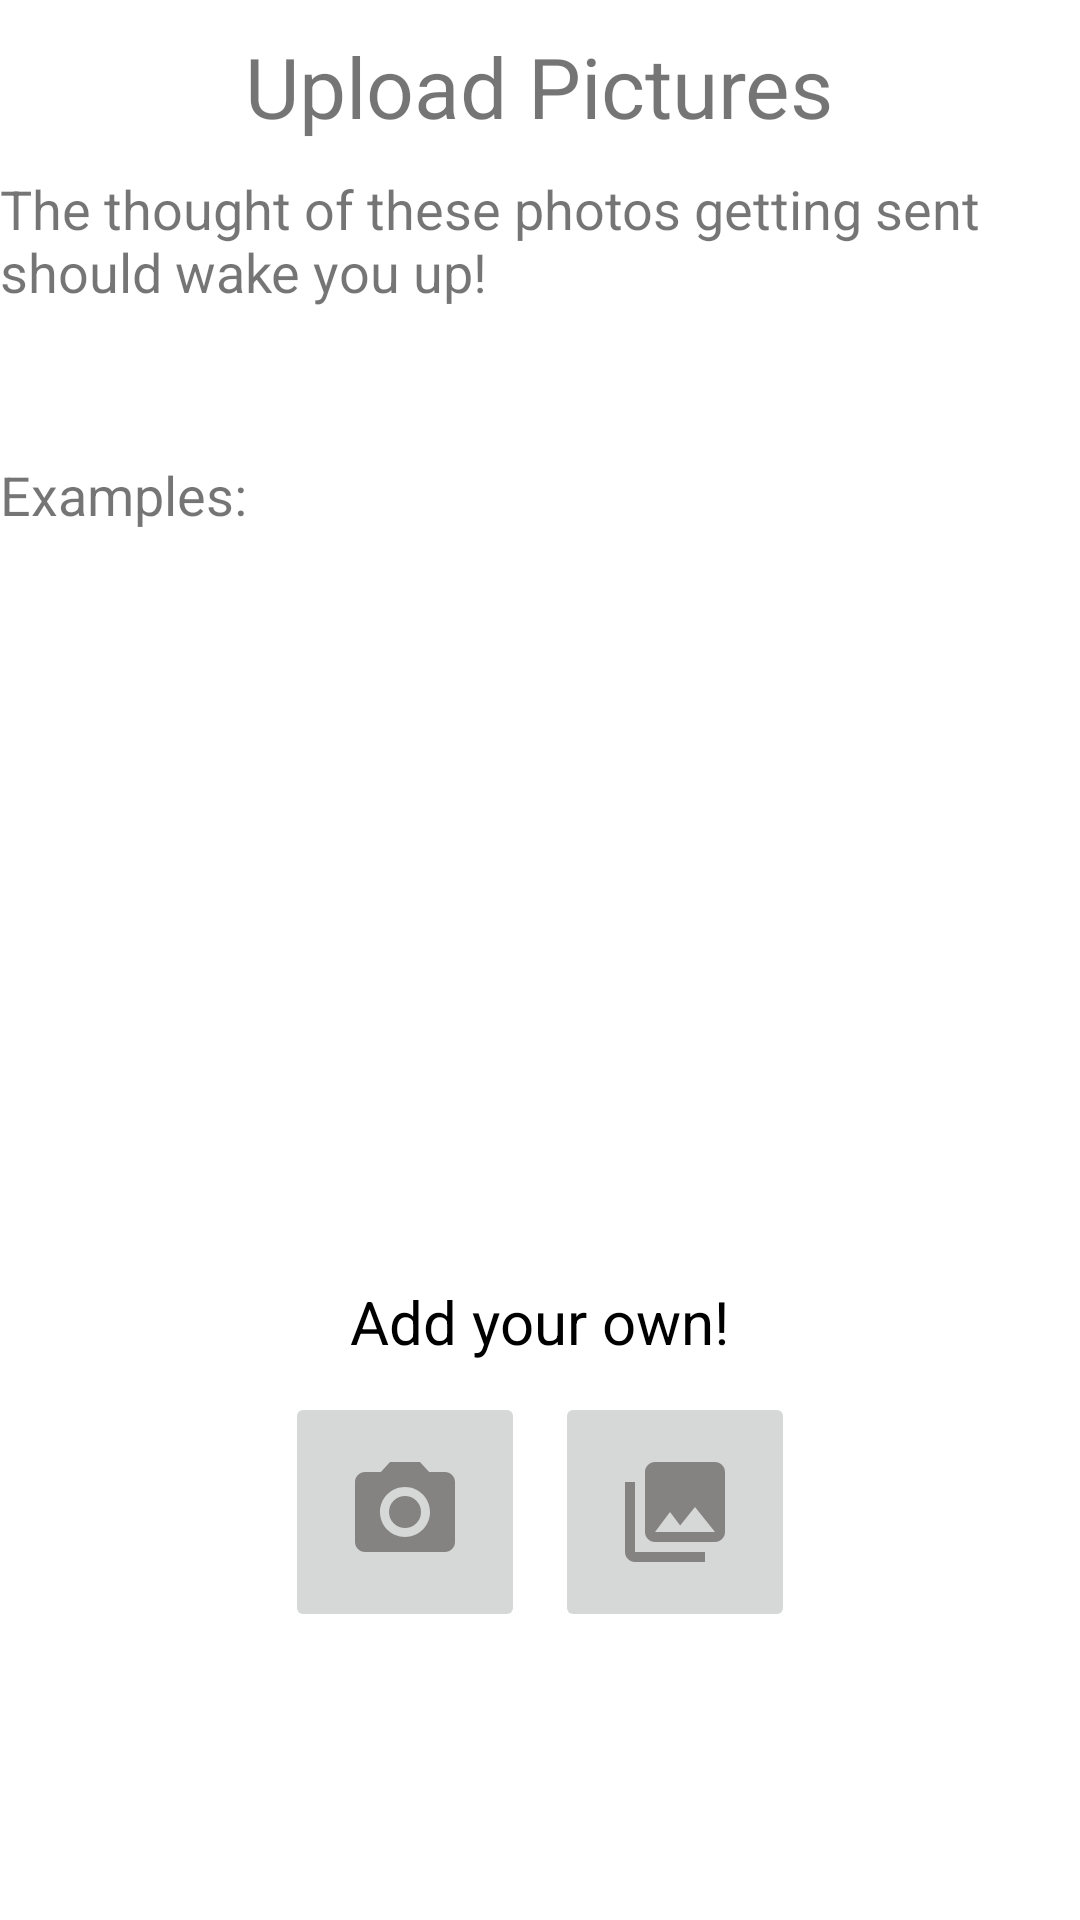

Icon bounding boxes for this 1080 x 1920 phone screenshot, format [x1, y1, x2, y2]:
photo camera: [297, 1410, 513, 1614]
photo library: [567, 1410, 783, 1614]
